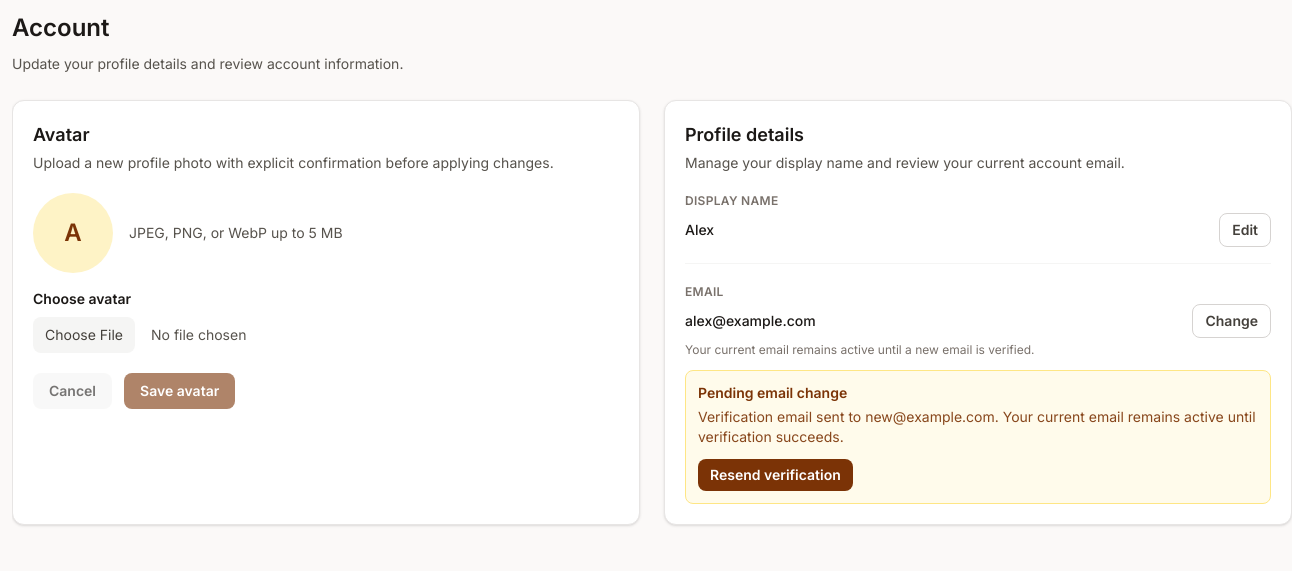
AccountSettingsClient › pending email resend › shows pending banner and resends verification on click
Expected: the text "Pending email change" is shown, [698,384,847,401]
Click the button "Resend verification".
click(775, 475)  # box [698,459,853,491]
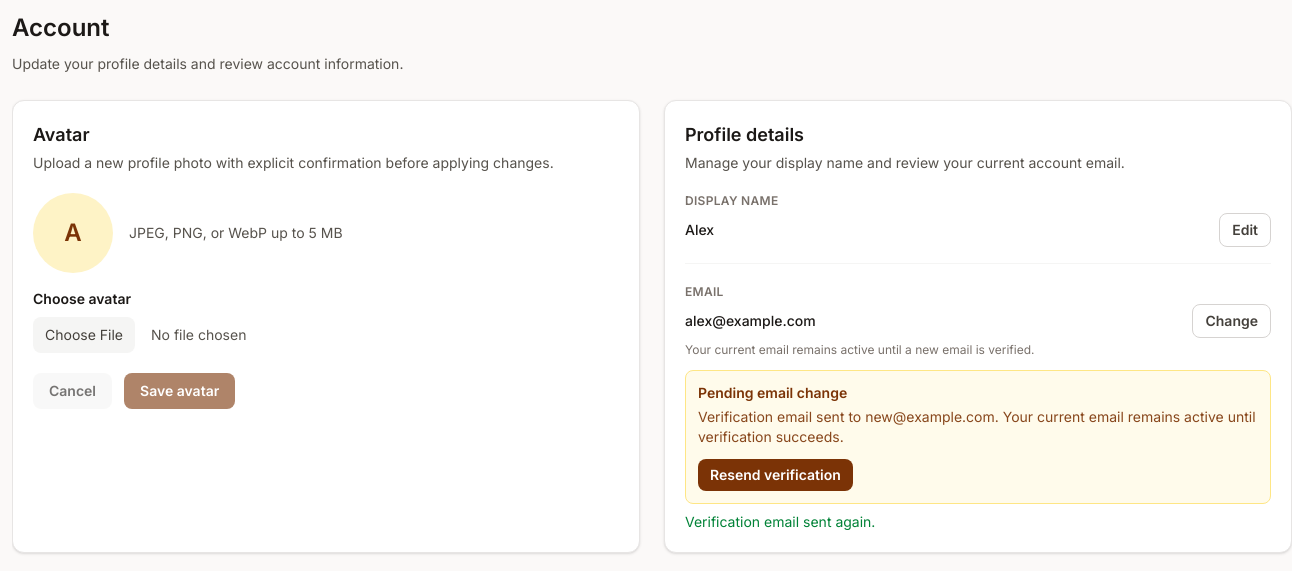
Result: the text "Verification email sent again." is shown at [685,513,875,530]
